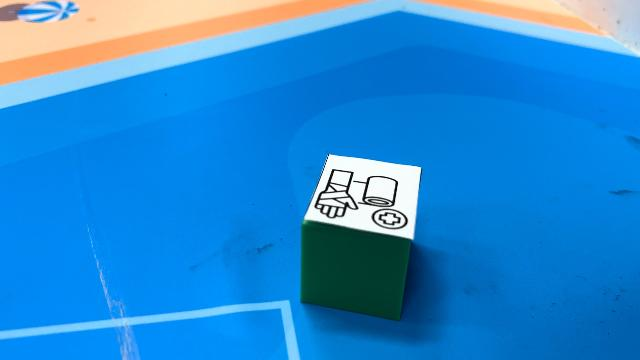bandage: (298, 151, 424, 321)
